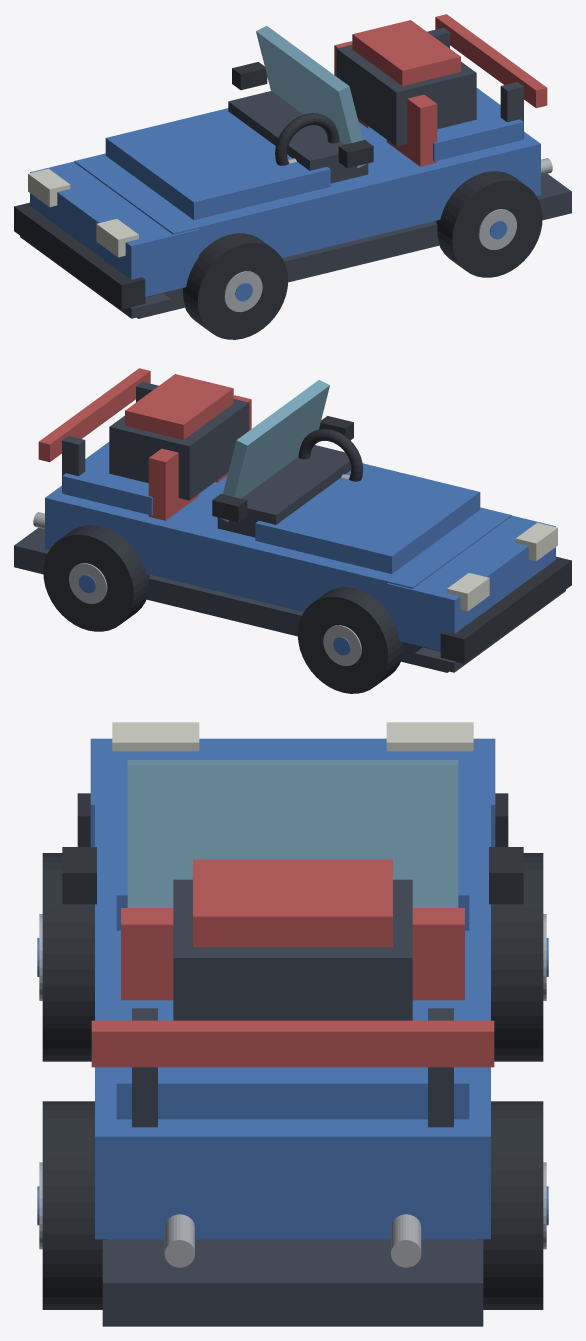
Rendered from ESF_V2_Classic_Sports_Car_Demo_ThreeJS_YUp2.glb.
3 views of the same model, one above another, from view 1: azimuth 30°, elevation 25°; view 2: azimuth 150°, elevation 25°; view 3: azimuth 270°, elevation 25° (orthographic). The views are drawn at different scales.
Visible parts, largest first — view 1: Body_Main, Hood, Body_Front_Fascia, Wheel_Rear_Left, Wheel_Front_Left, Engine_Block, Chassis_Frame, Windshield, Front_Bumper, Engine_Cover, Dashboard, Rear_Deck (+11 smaller); view 2: Body_Main, Hood, Body_Front_Fascia, Wheel_Rear_Right, Wheel_Front_Right, Engine_Block, Windshield, Chassis_Frame, Dashboard, Front_Bumper, Engine_Cover, Rear_Deck (+11 smaller); view 3: Body_Main, Windshield, Chassis_Frame, Engine_Block, Rear_Spoiler_Blade, Rear_Deck, Engine_Cover, Wheel_Rear_Right, Wheel_Rear_Left, Wheel_Front_Right, Wheel_Front_Left, Body_Front_Fascia (+12 smaller).
Part boxes in pixels (<box>): Body_Main: <box>74,122,540,257</box>; Hood: <box>105,108,330,219</box>; Body_Front_Fascia: <box>30,161,198,296</box>; Wheel_Rear_Left: <box>436,171,542,277</box>; Wheel_Front_Left: <box>183,233,288,339</box>; Engine_Block: <box>336,45,476,146</box>; Chassis_Frame: <box>137,173,571,318</box>; Windshield: <box>256,26,366,167</box>; Front_Bumper: <box>14,202,145,309</box>; Engine_Cover: <box>352,20,460,85</box>; Dashboard: <box>228,91,368,183</box>; Rear_Deck: <box>433,88,523,161</box>; Body_Main: <box>45,476,511,611</box>; Hood: <box>255,463,480,573</box>; Body_Front_Fascia: <box>387,515,555,650</box>; Wheel_Rear_Right: <box>43,525,149,631</box>; Wheel_Front_Right: <box>297,587,402,693</box>; Engine_Block: <box>109,399,249,500</box>; Windshield: <box>219,380,329,521</box>; Chassis_Frame: <box>14,527,448,672</box>; Dashboard: <box>217,445,351,537</box>; Front_Bumper: <box>440,556,571,663</box>; Engine_Cover: <box>125,374,233,439</box>; Rear_Deck: <box>62,442,152,515</box>; Body_Main: <box>95,778,490,1239</box>; Windshield: <box>127,760,458,907</box>; Chassis_Frame: <box>102,1239,483,1326</box>; Engine_Block: <box>173,879,412,1020</box>; Rear_Spoiler_Blade: <box>91,1020,494,1067</box>; Rear_Deck: <box>116,996,469,1119</box>; Engine_Cover: <box>193,859,392,947</box>; Wheel_Rear_Right: <box>478,1101,543,1309</box>; Wheel_Rear_Left: <box>42,1101,107,1309</box>; Wheel_Front_Right: <box>491,853,543,1061</box>; Wheel_Front_Left: <box>42,853,94,1061</box>; Body_Front_Fascia: <box>90,738,495,846</box>.
Bounding box in the file's own units: 4.85 × 2.09 × 2.35.
